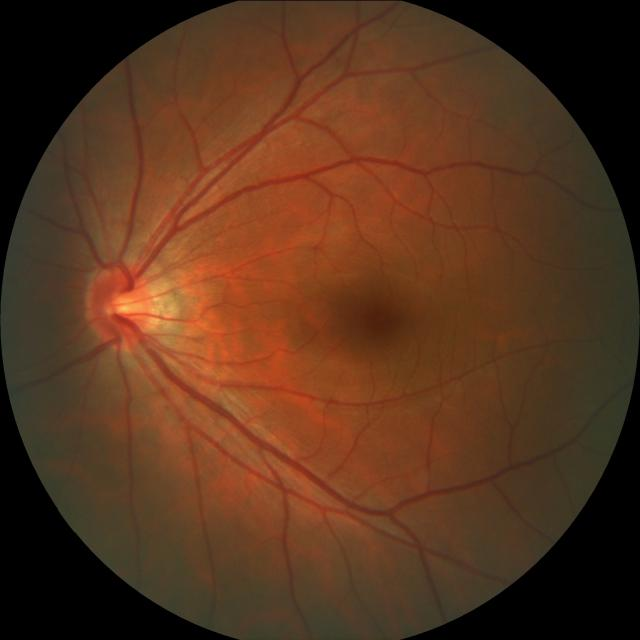OC: (105, 286, 141, 322)
OD: (86, 262, 154, 348)
